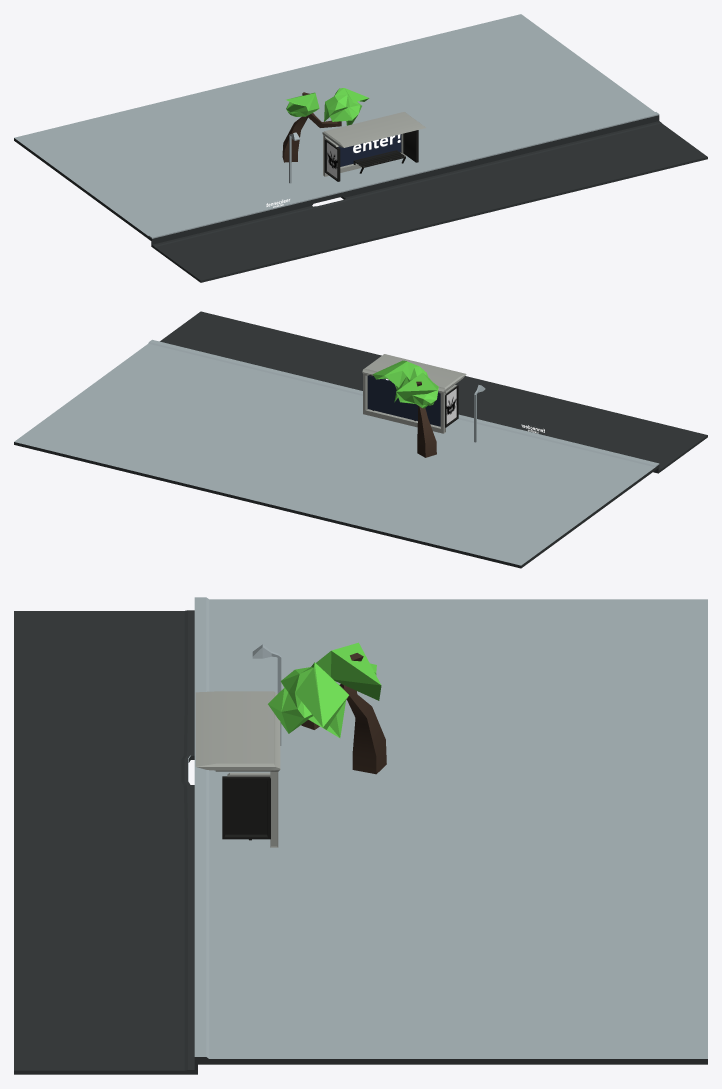
Rendered from websitetest.glb.
3 renders of one model, top to bottom at view 1: azimuth 30°, elevation 25°; view 2: azimuth 150°, elevation 25°; view 3: azimuth 270°, elevation 25°, orthographic. The views are drawn at different scales.
Visible parts, largest first — view 1: Cube, Cube.001, Icosphere, Cube.002, Cube.004, Icosphere.001, Cube.003; view 2: Cube, Cube.001, Cube.002, Icosphere.001, Icosphere, Cube.004; view 3: Cube, Cube.001, Icosphere, Cube.004, Icosphere.001.
Boxes of the visible parts, bbox=[...] form: Cube: bbox=[14, 14, 707, 282]; Cube.001: bbox=[322, 112, 425, 181]; Icosphere: bbox=[324, 88, 369, 125]; Cube.002: bbox=[338, 134, 401, 166]; Cube.004: bbox=[282, 92, 341, 162]; Icosphere.001: bbox=[286, 92, 319, 116]; Cube.003: bbox=[353, 150, 405, 173]; Cube: bbox=[14, 311, 707, 568]; Cube.001: bbox=[362, 354, 466, 433]; Cube.002: bbox=[367, 375, 440, 426]; Icosphere.001: bbox=[396, 372, 438, 408]; Icosphere: bbox=[372, 360, 428, 402]; Cube.004: bbox=[416, 381, 436, 457]; Cube: bbox=[14, 597, 707, 1074]; Cube.001: bbox=[195, 691, 280, 847]; Icosphere: bbox=[268, 662, 348, 737]; Cube.004: bbox=[301, 653, 386, 774]; Icosphere.001: bbox=[316, 642, 381, 700].
Size of the model in its own units: 83.66 by 12.88 by 53.37.
3 materials, 3 textured.
